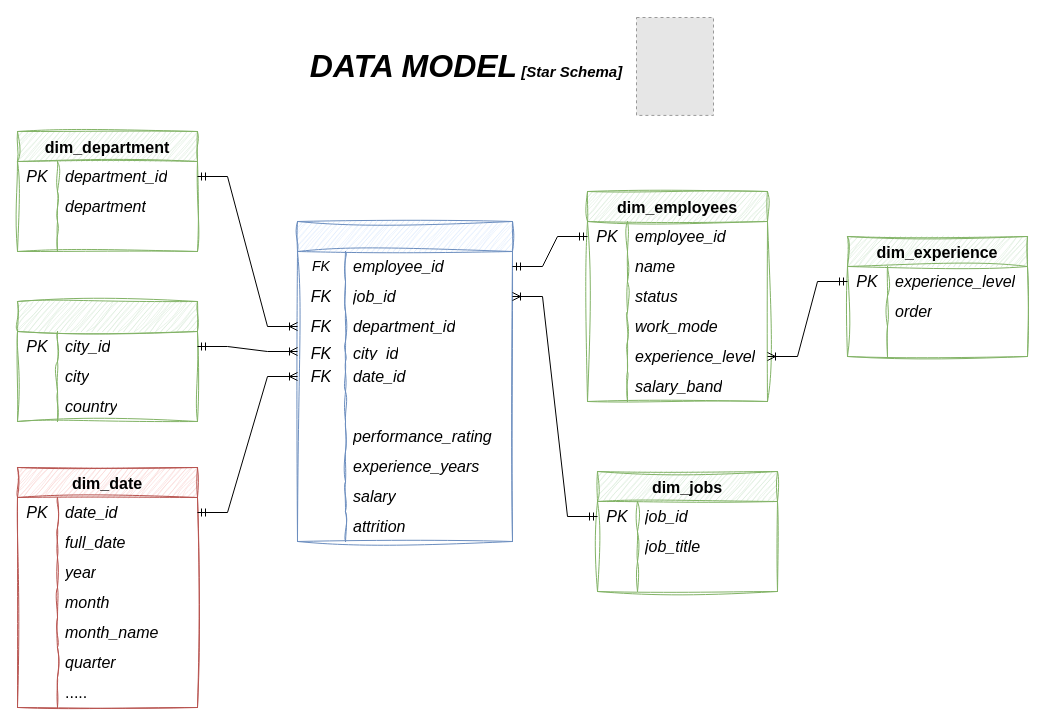
Image size: 1045x725. Some labels were removed from this diagram. Grey dashed boxes stand in for pictures. Here are the shapes that lost their labels. From the top down, the box of each, then its label:
(16, 300, 198, 422): dim_location
(296, 220, 512, 542): fact_employees
